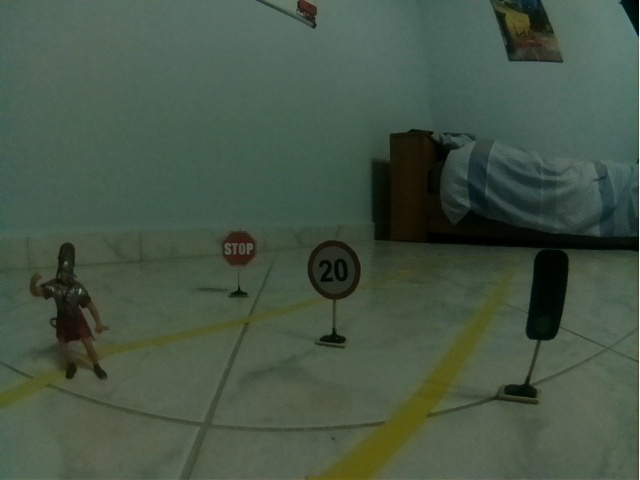Green Traffic Light: (528, 250, 569, 340)
Person: (29, 242, 110, 381)
Speed Limit 20: (307, 240, 361, 300)
Stop: (221, 231, 256, 267)
